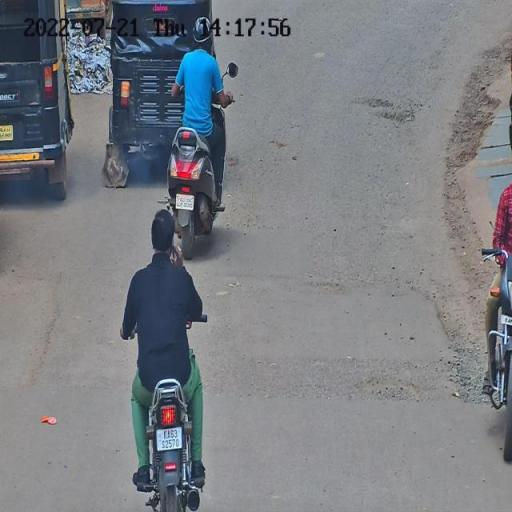numberplate: (154, 424, 185, 450)
using mobile: (166, 228, 186, 265)
